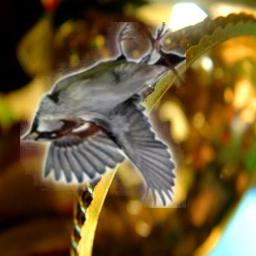Sparrow: (20, 22, 186, 208)
